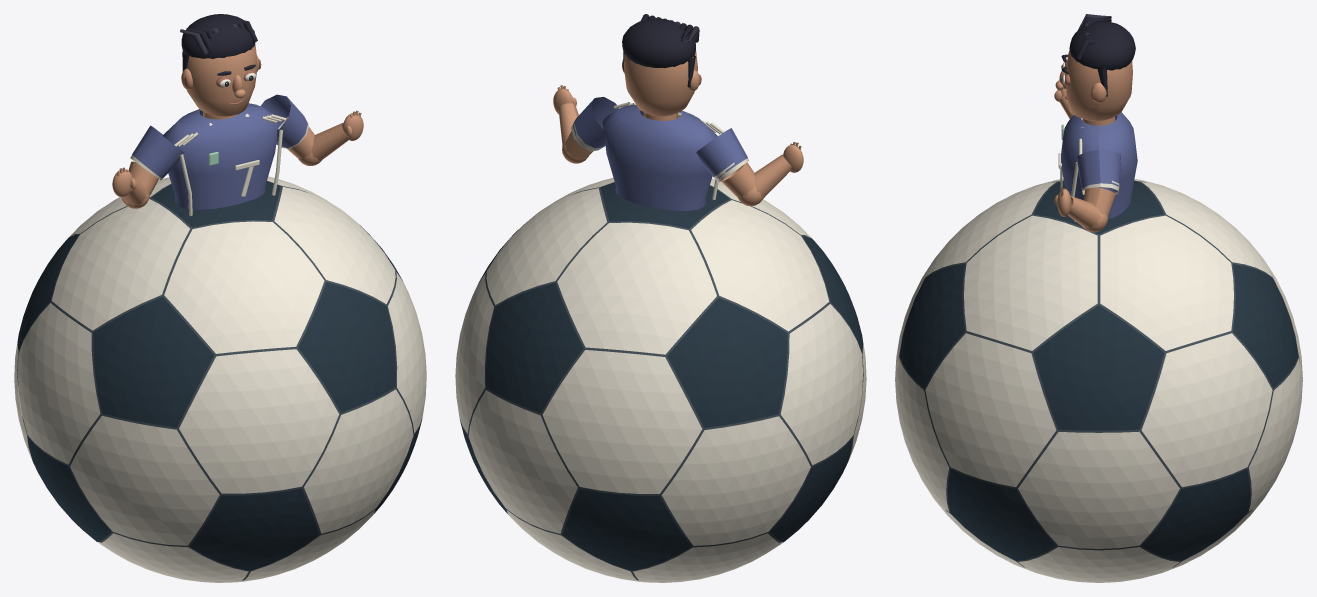
Rendered from football-players-PZT3KcJI.glb.
The picture shows the model from 3 angles, left to right: view 1: azimuth 30°, elevation 25°; view 2: azimuth 150°, elevation 25°; view 3: azimuth 270°, elevation 25°; orthographic projection.
Visible parts, largest first — view 1: MatchBall_surface, Athlete_surface, head_surface, rightArm_surface, leftArm_surface; view 2: MatchBall_surface, Athlete_surface, head_surface, leftArm_surface, rightArm_surface; view 3: MatchBall_surface, head_surface, Athlete_surface, rightArm_surface.
Boxes of the visible parts, box(x1,y1,x2,y2) form: MatchBall_surface: box(14, 176, 426, 582); Athlete_surface: box(162, 103, 285, 216); head_surface: box(180, 14, 261, 116); rightArm_surface: box(260, 94, 363, 165); leftArm_surface: box(112, 125, 183, 208); MatchBall_surface: box(455, 178, 866, 582); Athlete_surface: box(602, 102, 724, 210); head_surface: box(622, 14, 701, 116); leftArm_surface: box(696, 128, 803, 206); rightArm_surface: box(553, 85, 618, 163); MatchBall_surface: box(895, 178, 1302, 582); head_surface: box(1055, 14, 1135, 121); Athlete_surface: box(1058, 112, 1137, 221); rightArm_surface: box(1054, 150, 1120, 232).
Bounding box in the file's own units: 2 × 2.91 × 2.
